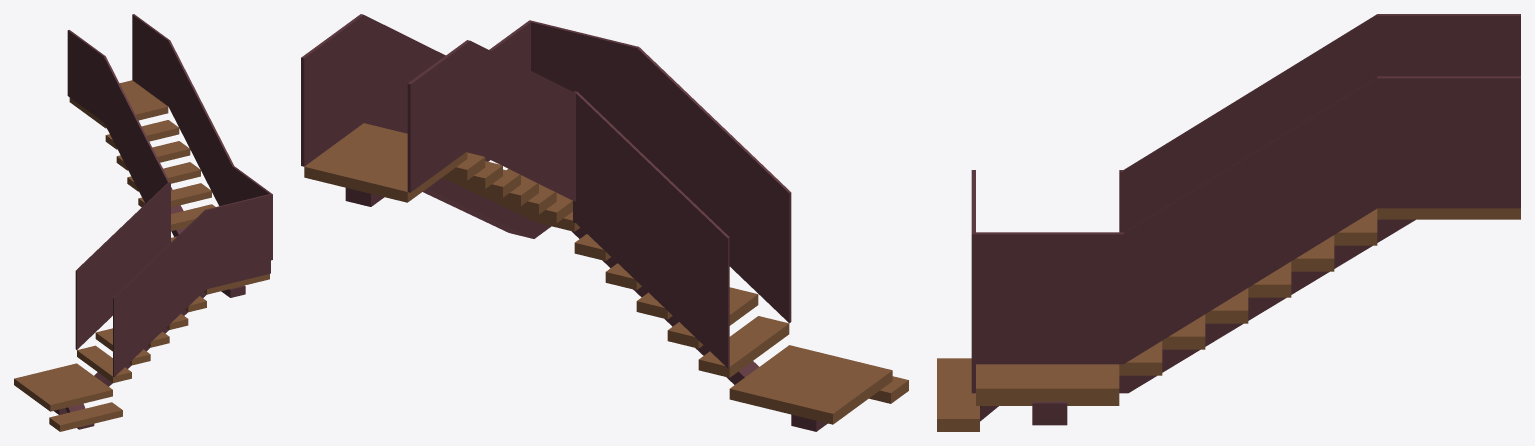
File: stairs-house-l-4m.fbx
3 renders of one model, left to right at view 1: azimuth 30°, elevation 25°; view 2: azimuth 150°, elevation 25°; view 3: azimuth 270°, elevation 25°, orthographic. The views are drawn at different scales.
Parts seen in each view (by area): view 1: stairs-house-l-4m; view 2: stairs-house-l-4m; view 3: stairs-house-l-4m.
Boxes of the visible parts, x1,y1,x2,y2 form: stairs-house-l-4m: (14,14,272,431); stairs-house-l-4m: (301,14,908,431); stairs-house-l-4m: (937,14,1520,431).
Size of the model in its own units: 3.53 by 4 by 4.07.
